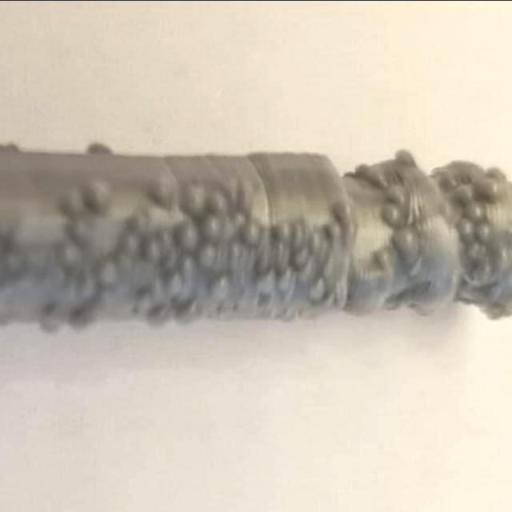blobs: (387, 222, 423, 260), (86, 178, 114, 218), (147, 174, 173, 212), (239, 216, 268, 250), (184, 179, 208, 216), (159, 267, 183, 301), (97, 262, 121, 296), (173, 220, 198, 252), (199, 208, 223, 241), (208, 274, 234, 304), (138, 238, 163, 269), (285, 242, 309, 272), (330, 195, 354, 224), (198, 242, 220, 272), (251, 272, 274, 298), (275, 268, 296, 295), (380, 203, 403, 227), (456, 218, 478, 243), (450, 180, 473, 203), (478, 175, 498, 201), (476, 219, 497, 243), (394, 148, 415, 172), (322, 215, 341, 241), (271, 220, 290, 246), (308, 278, 330, 300), (468, 198, 487, 221), (381, 185, 400, 204), (373, 250, 390, 271)
